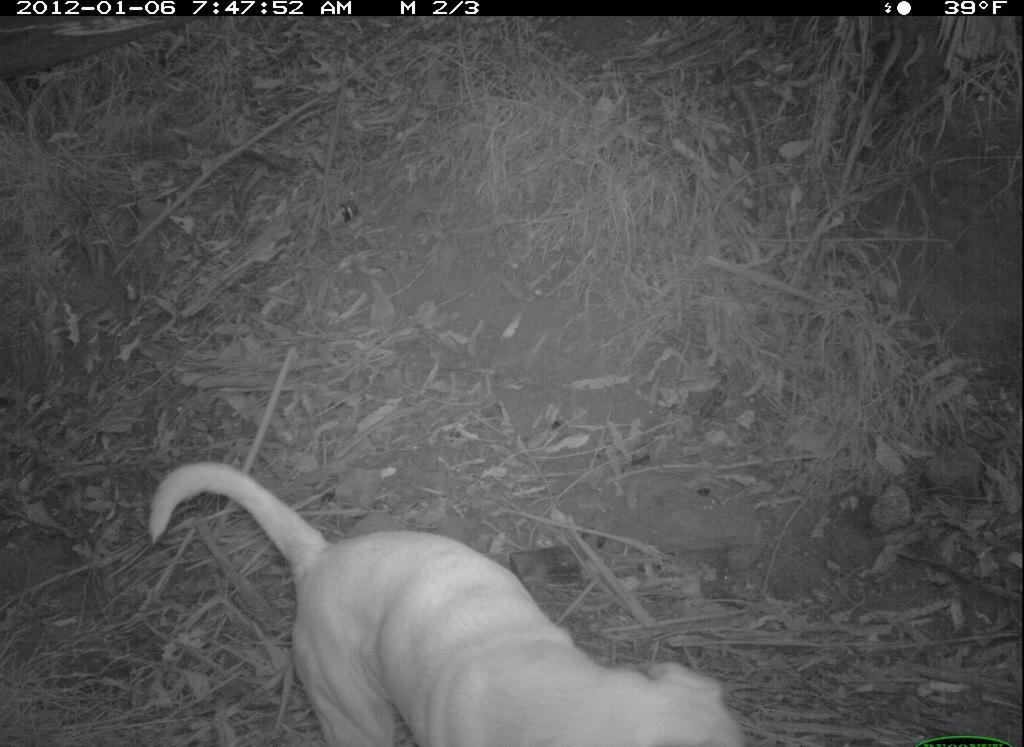dog: (143, 454, 747, 745)
